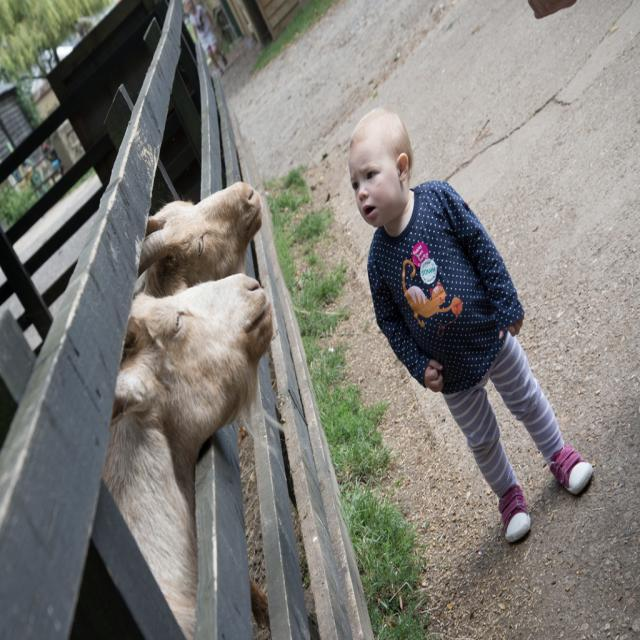Goat: (102, 180, 280, 638)
